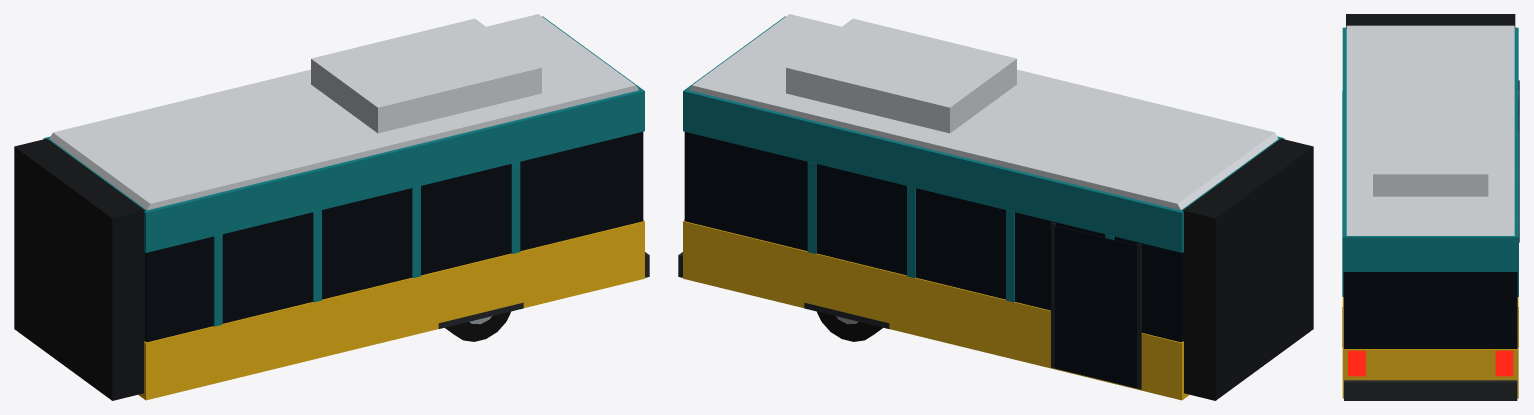
File: bus60r-teal.glb
The picture shows the model from 3 angles, left to right: view 1: azimuth 30°, elevation 25°; view 2: azimuth 150°, elevation 25°; view 3: azimuth 270°, elevation 25°; orthographic projection. The views are drawn at different scales.
Visible parts, largest first — view 1: bus60-rear; view 2: bus60-rear; view 3: bus60-rear.
Part boxes in pixels (x1,y1,x2,y2): bus60-rear: [14, 14, 649, 400]; bus60-rear: [678, 14, 1313, 400]; bus60-rear: [1342, 14, 1519, 400].
Bounding box in the file's own units: 7.84 × 3.37 × 2.61.
